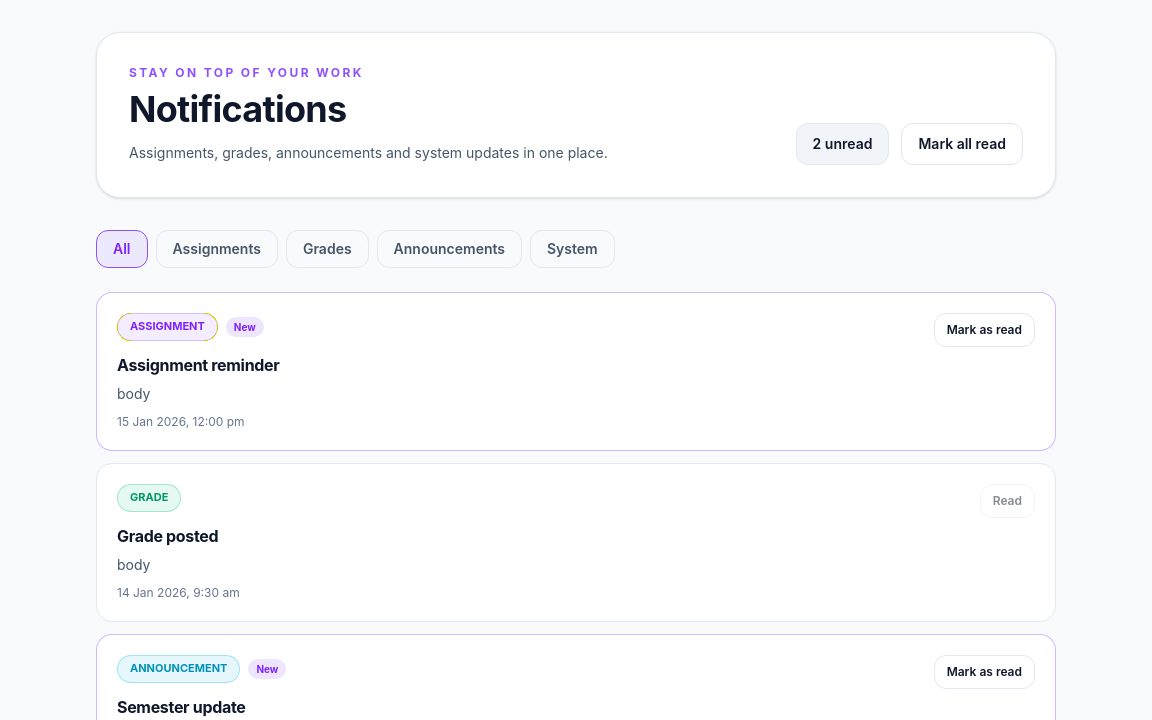
Notifications › shows an empty state when no notifications match
Click the button "System". click: (572, 249)
box: [530,230,615,268]
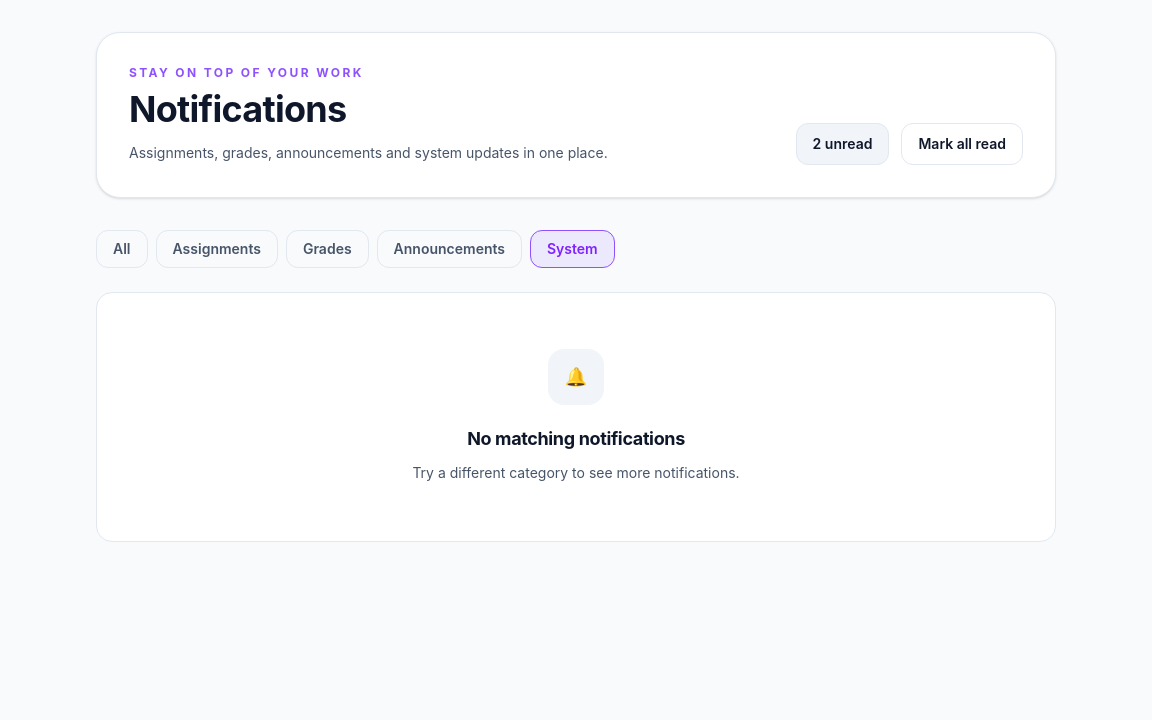
Check: the text "No matching notifications" is shown, box [467,428,685,449]
